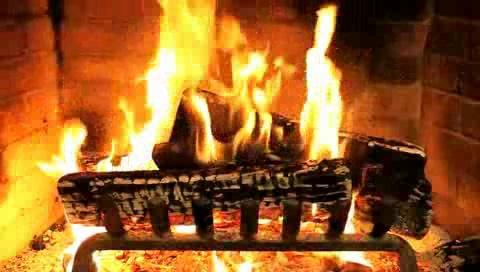fire: (82, 7, 372, 194)
